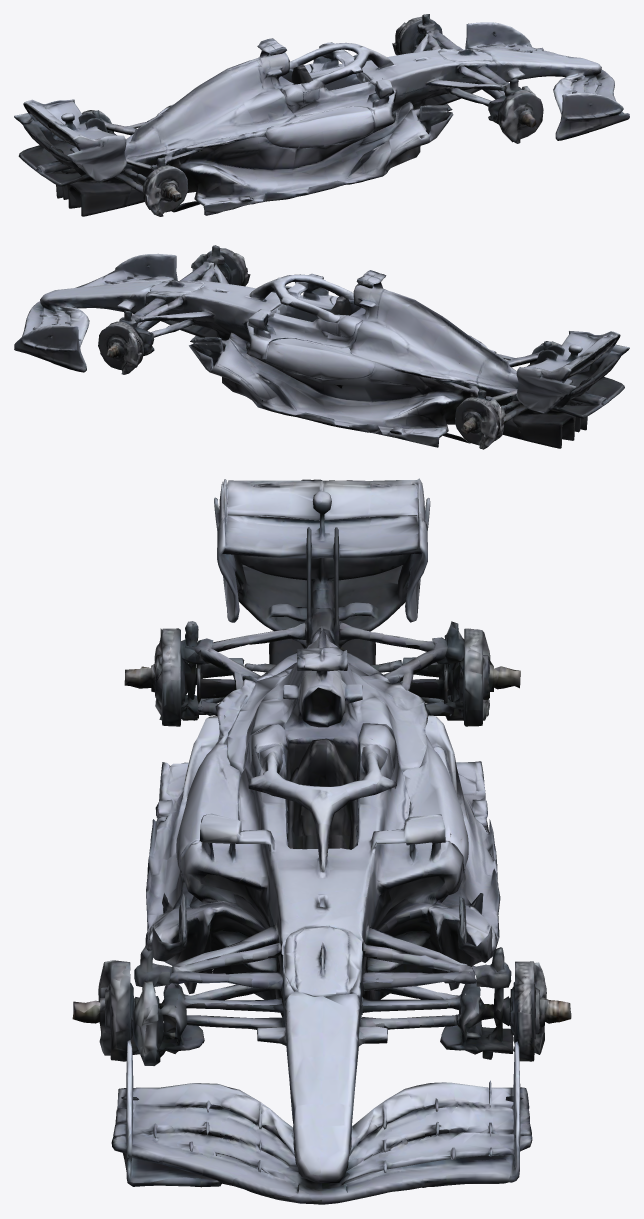
File: coche_alto.glb
3 renders of one model, top to bottom at view 1: azimuth 30°, elevation 25°; view 2: azimuth 150°, elevation 25°; view 3: azimuth 270°, elevation 25°, orthographic. The views are drawn at different scales.
Parts seen in each view (by area): view 1: cuerpo, alaTras, alaDel; view 2: cuerpo, alaTras, alaDel; view 3: cuerpo, alaDel, alaTras.
Boxes of the visible parts, x1=… form: cuerpo: x1=82, y1=14, x2=601, y2=216; alaTras: x1=14, y1=99, x2=131, y2=216; alaDel: x1=465, y1=22, x2=629, y2=140; cuerpo: x1=40, y1=245, x2=561, y2=449; alaTras: x1=512, y1=331, x2=629, y2=448; alaDel: x1=14, y1=253, x2=177, y2=372; cuerpo: x1=72, y1=621, x2=571, y2=1183; alaDel: x1=111, y1=1040, x2=532, y2=1204; alaTras: x1=214, y1=478, x2=430, y2=664.
Size of the model in its own units: 6.16 by 1.23 by 2.34.
1 material, 1 textured.
